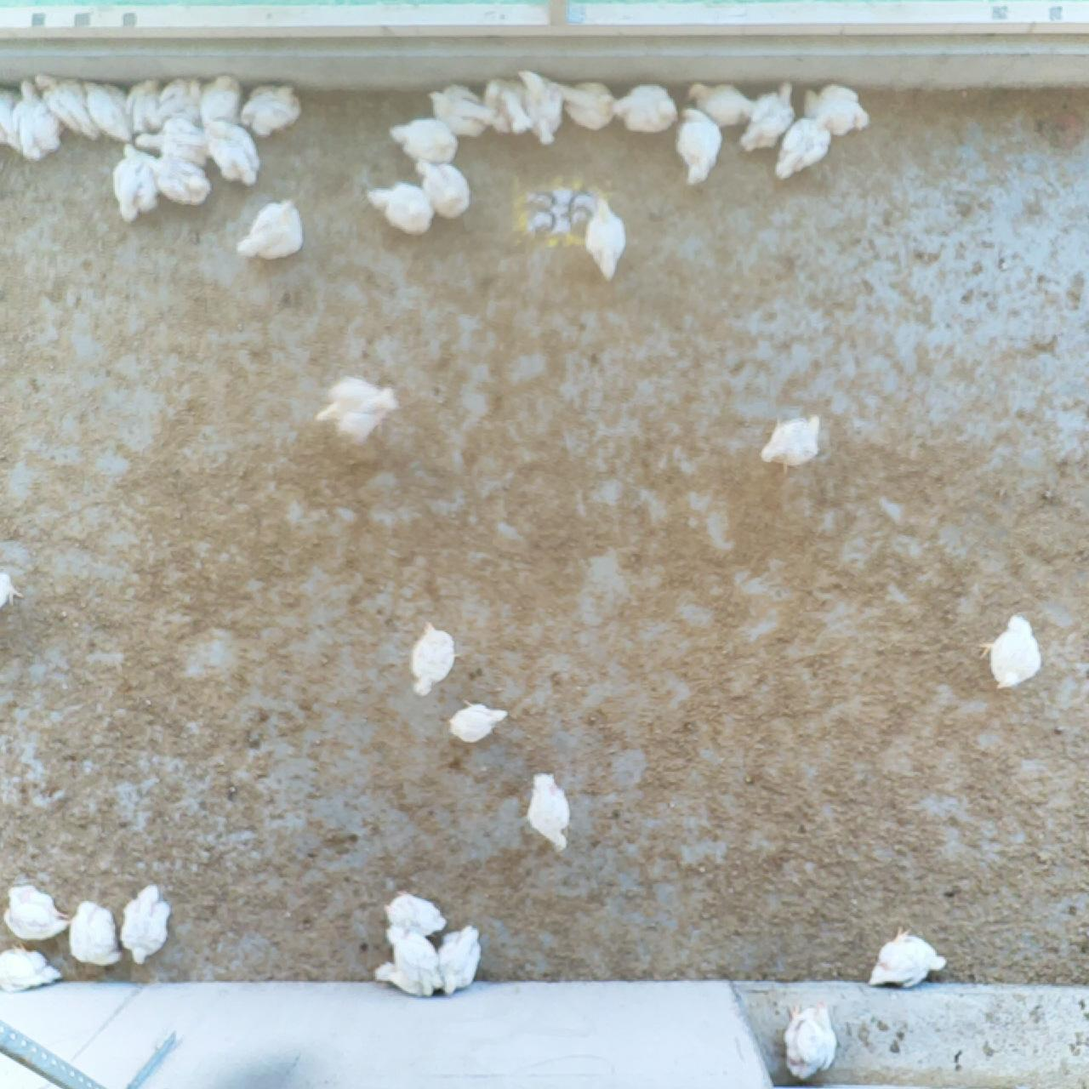chicken: (313, 367, 417, 455), (981, 601, 1047, 703), (517, 766, 585, 856), (773, 1001, 844, 1082), (234, 193, 309, 268), (753, 411, 839, 476), (403, 621, 477, 693), (867, 925, 948, 990), (451, 75, 530, 141), (772, 105, 837, 182), (36, 70, 103, 143), (578, 201, 637, 282), (516, 64, 572, 145), (734, 81, 794, 153), (599, 81, 678, 135), (673, 105, 724, 188), (803, 74, 871, 136), (365, 181, 440, 237), (121, 882, 172, 964), (109, 141, 159, 223), (452, 687, 517, 750), (203, 120, 261, 186), (413, 158, 475, 219), (424, 85, 494, 139), (3, 886, 71, 939), (387, 116, 462, 164), (14, 78, 57, 160), (71, 899, 121, 968), (194, 71, 251, 130), (563, 76, 620, 134), (243, 82, 302, 137), (389, 932, 443, 990), (0, 942, 63, 991), (154, 156, 214, 207), (381, 890, 446, 936), (83, 78, 131, 140), (686, 81, 753, 125), (440, 927, 482, 996), (136, 121, 206, 160), (372, 959, 438, 999), (153, 77, 204, 125), (127, 77, 169, 134), (0, 87, 26, 153), (0, 567, 20, 615)
